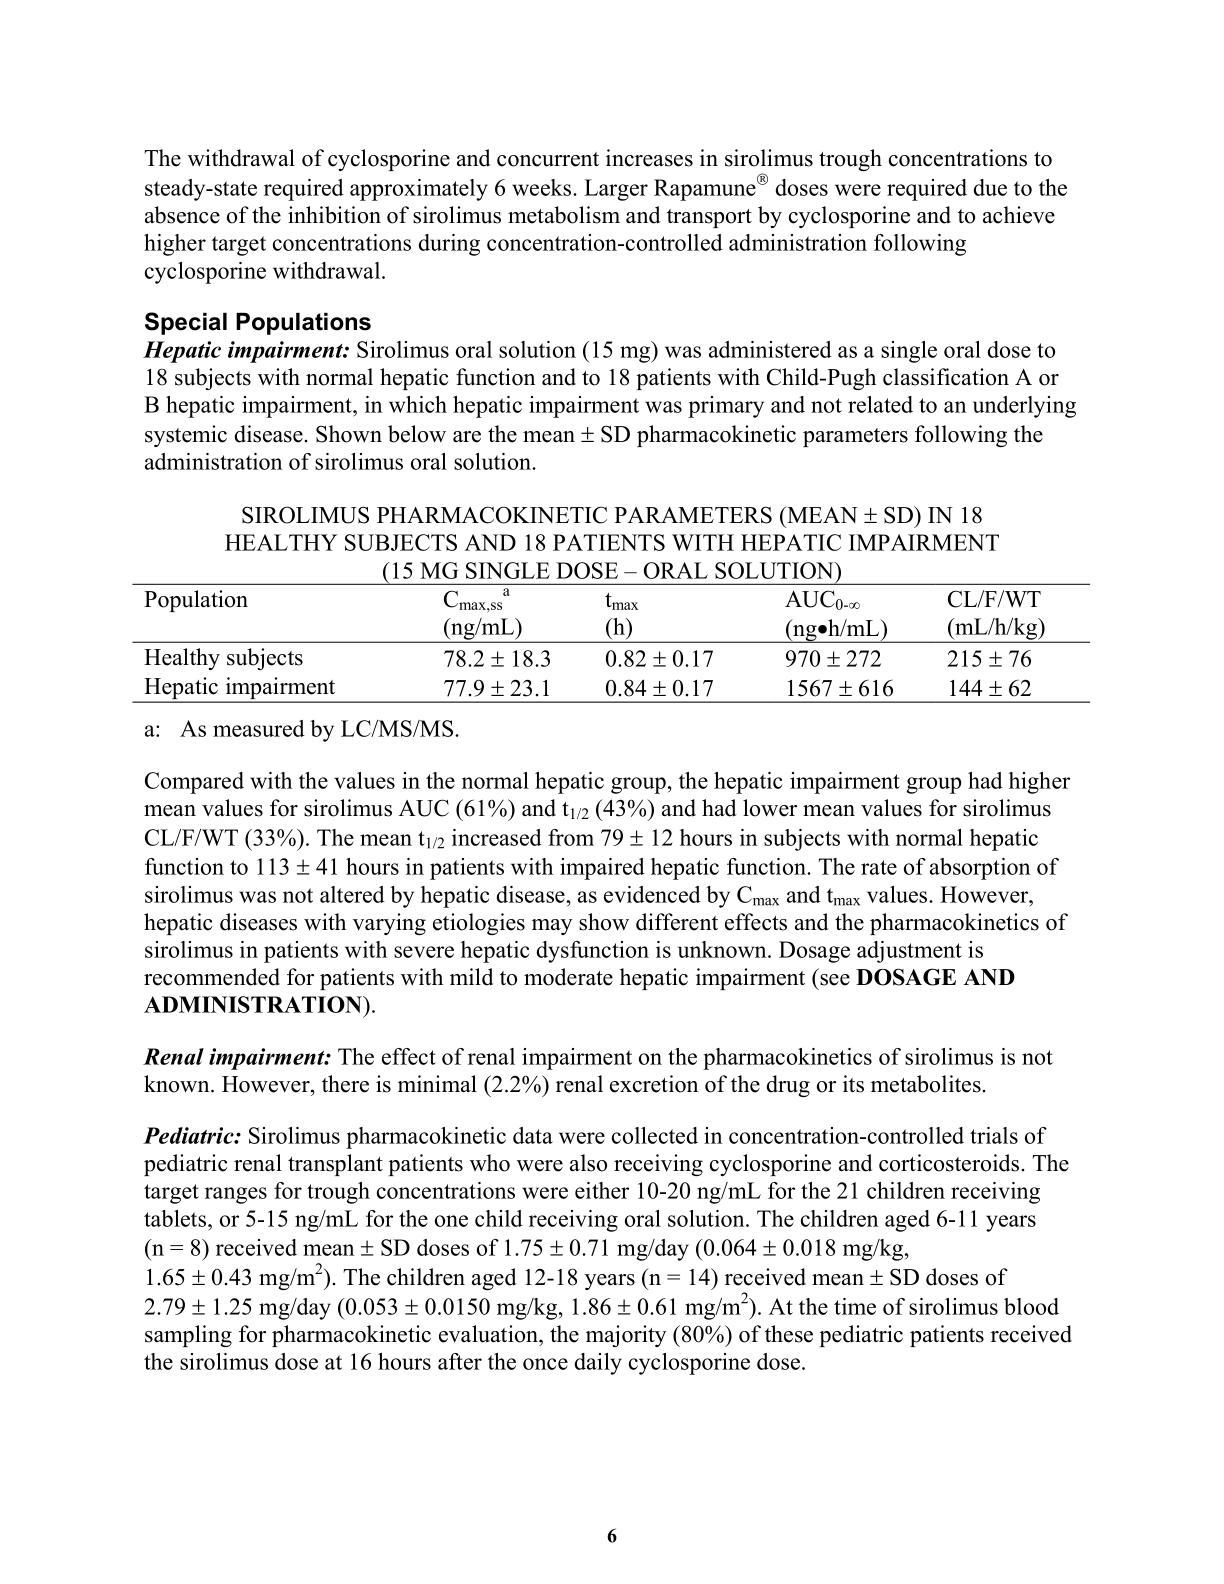partial_lined: (132, 582, 1092, 705)
